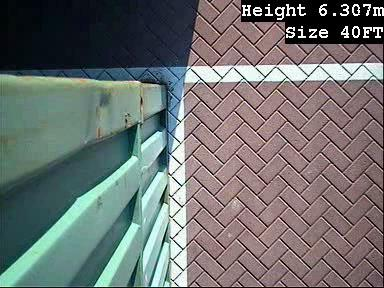groundmarker_2: (85, 4, 146, 48), (86, 161, 147, 205)
